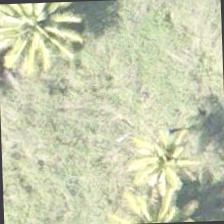Kelapa_Sawit: (99, 168, 192, 224), (0, 1, 71, 60)
